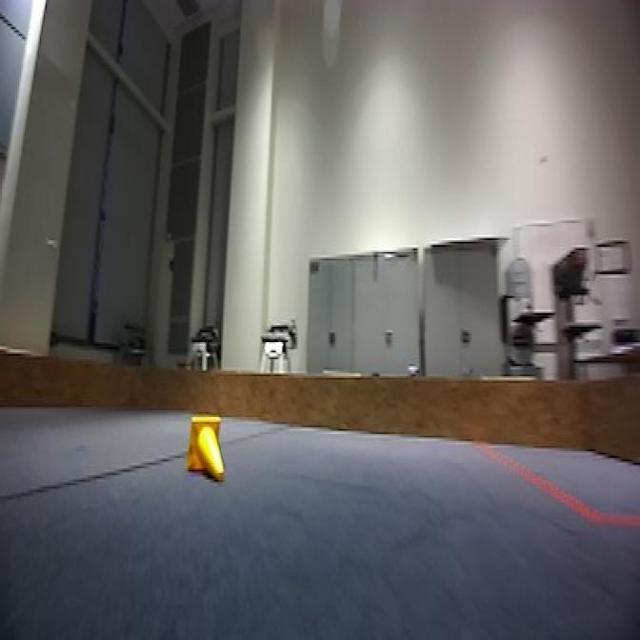frc_cone: (184, 412, 228, 483)
